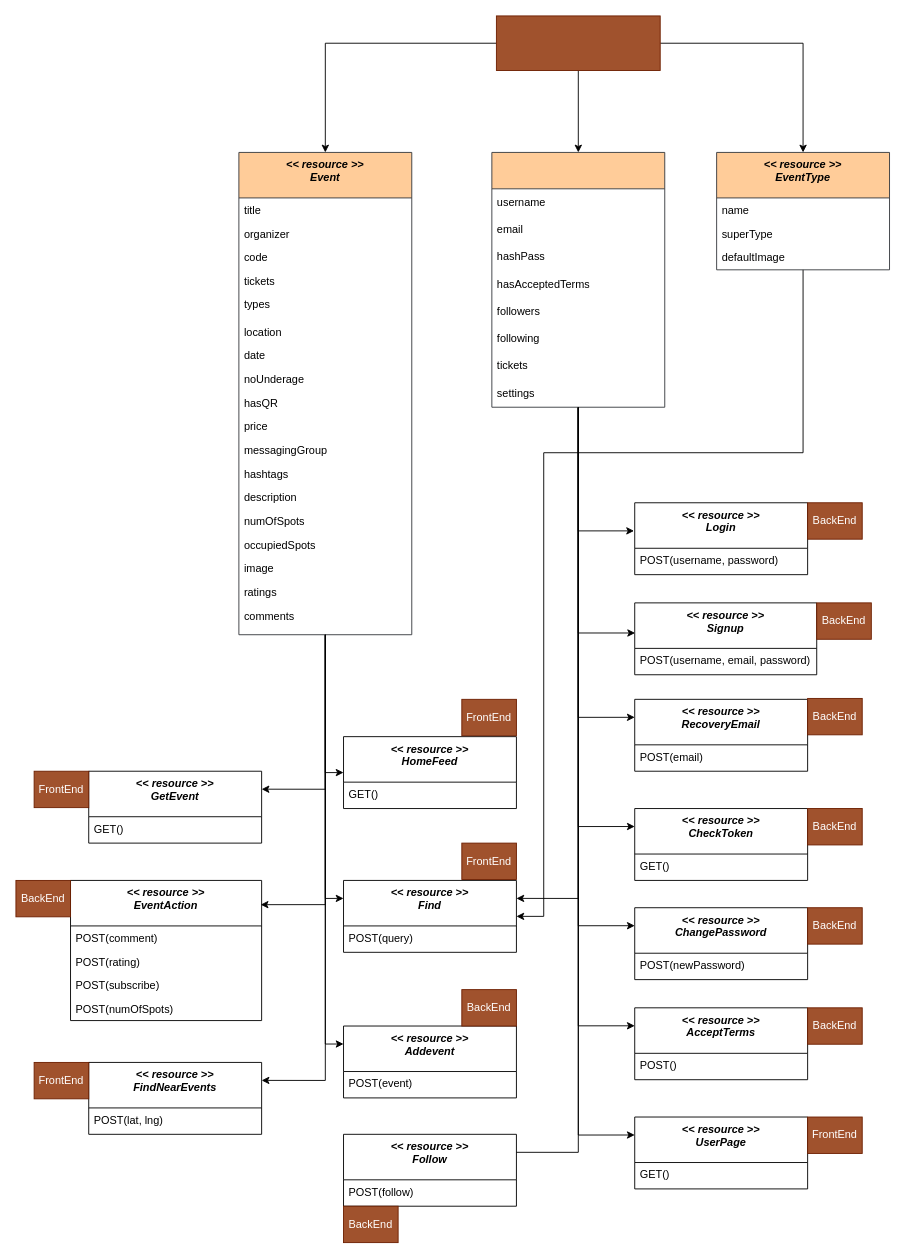
This 905x1259 diagram has some shape labels left out. The shapes that lost their labels are listed below. From the top down, each one's box as (x1, y1, x2, y2) in pixels, then its label:
(495, 15, 660, 71): << API >> localhost:8080/api/v1
(491, 152, 665, 407): << resource >> Stakeholder
